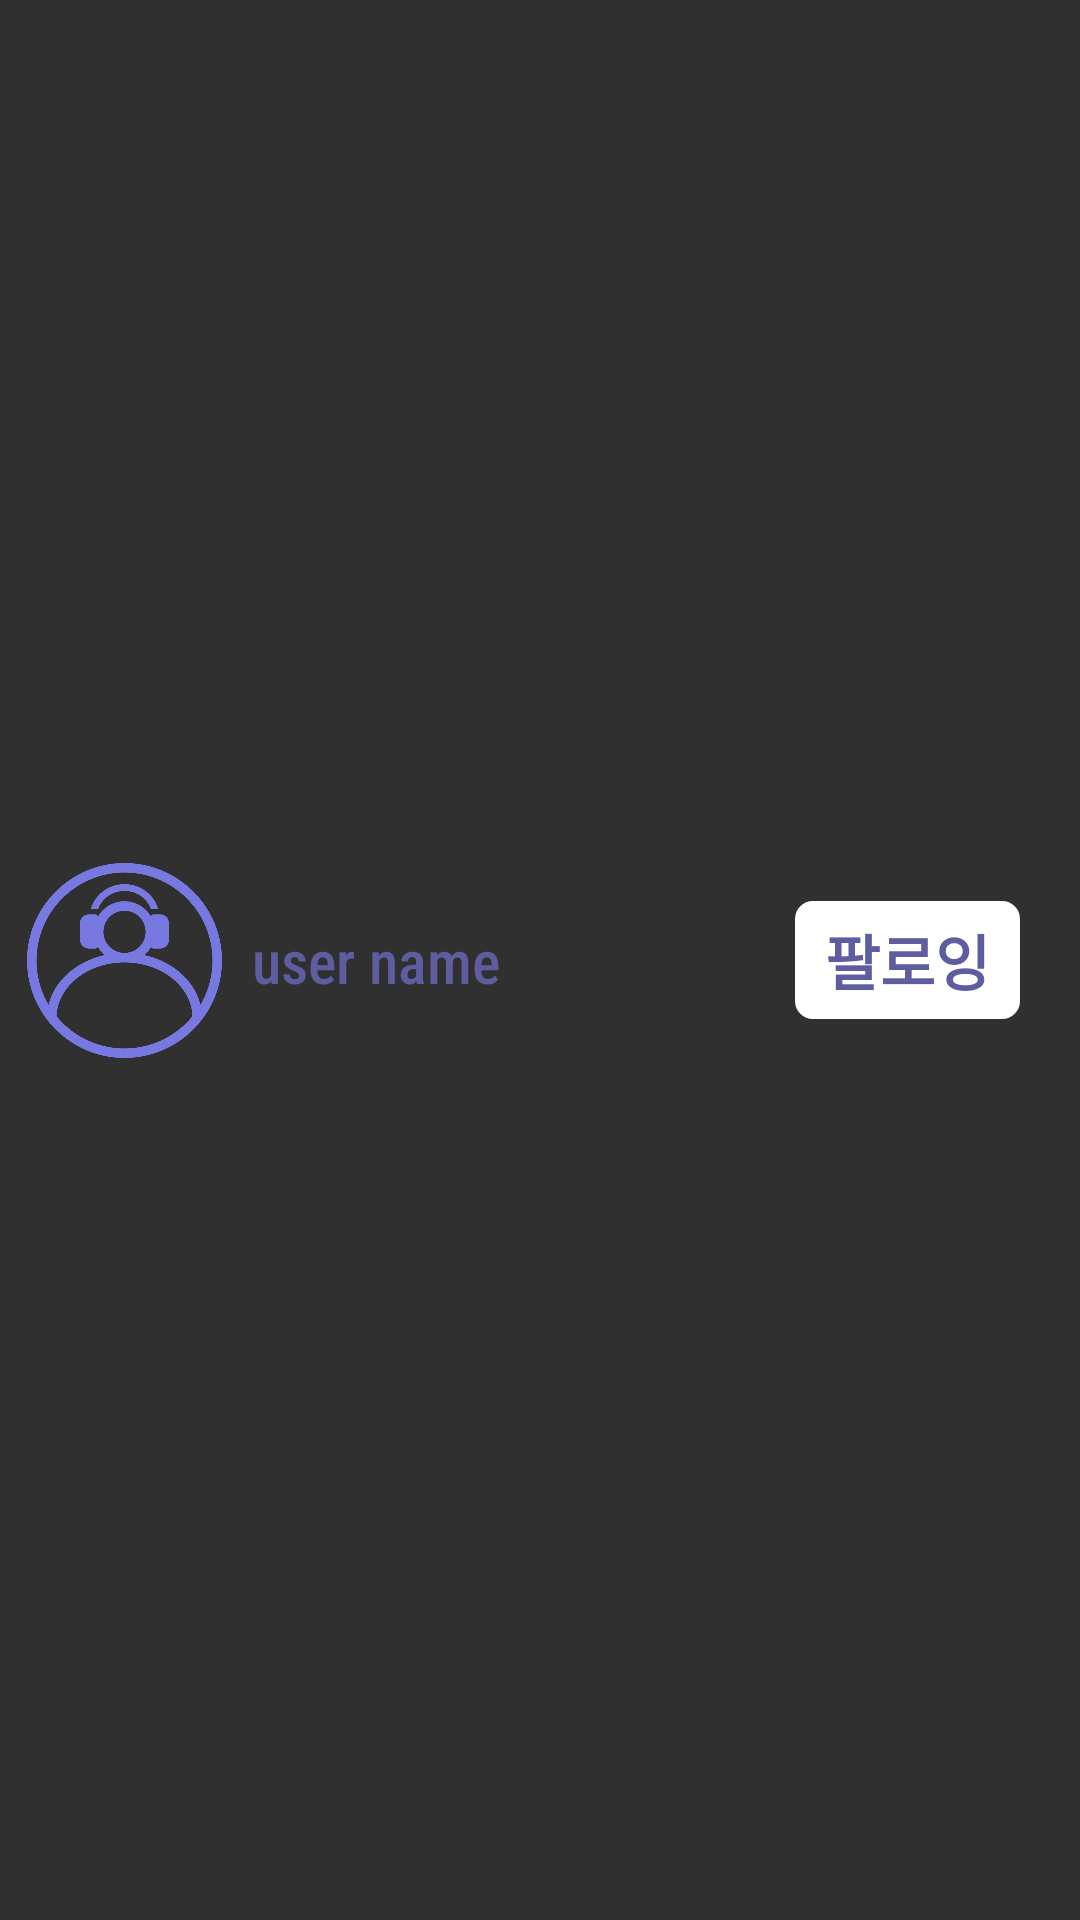

Icons on this 1080 x 1920 Android screen, each with the point to tap as (x,y):
profile: (124,960)
